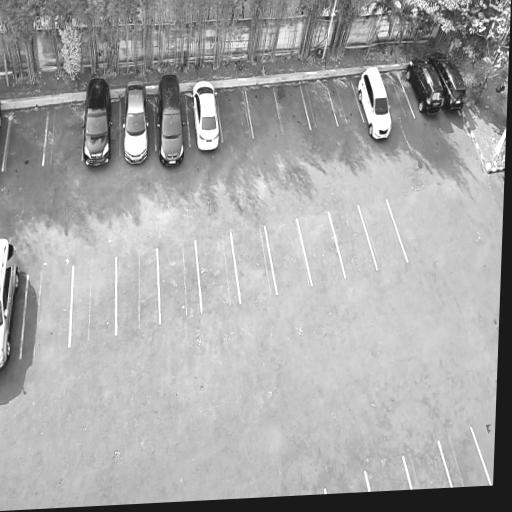Car: (400, 50, 444, 121), (0, 238, 23, 373), (423, 47, 468, 114), (354, 64, 393, 141), (155, 72, 186, 167), (82, 75, 113, 168), (122, 79, 151, 167), (189, 79, 221, 154)
Space Available: (22, 266, 72, 358), (71, 258, 116, 346), (117, 249, 159, 335), (158, 240, 200, 325), (265, 219, 311, 295), (196, 233, 239, 312), (232, 226, 276, 303), (329, 205, 376, 277), (298, 212, 344, 285), (359, 200, 407, 268), (439, 428, 490, 488), (3, 110, 47, 171), (44, 104, 85, 164), (405, 442, 452, 490), (217, 91, 253, 142), (246, 89, 283, 137), (326, 79, 364, 125), (274, 87, 310, 133), (301, 83, 337, 129), (365, 456, 411, 492), (383, 74, 414, 119)
